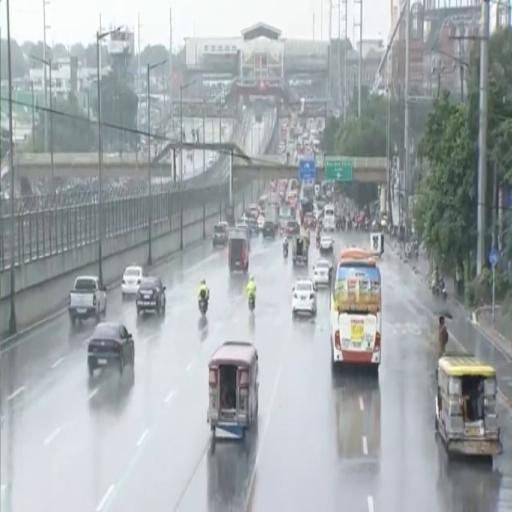bus: (330, 248, 381, 372), (258, 196, 267, 212)
car: (88, 323, 134, 376), (136, 277, 166, 314), (292, 279, 317, 316), (122, 265, 143, 296), (313, 259, 332, 284), (213, 222, 228, 247), (319, 235, 333, 253), (262, 221, 276, 238), (285, 220, 300, 235), (248, 218, 257, 234), (258, 215, 265, 231)
jeepney: (436, 354, 502, 456), (207, 342, 258, 442)
motorcycle: (198, 298, 208, 316), (248, 294, 256, 312), (439, 281, 446, 301), (432, 284, 439, 296), (283, 246, 288, 259), (316, 238, 320, 248)
truck: (68, 276, 106, 325), (292, 236, 308, 265)
